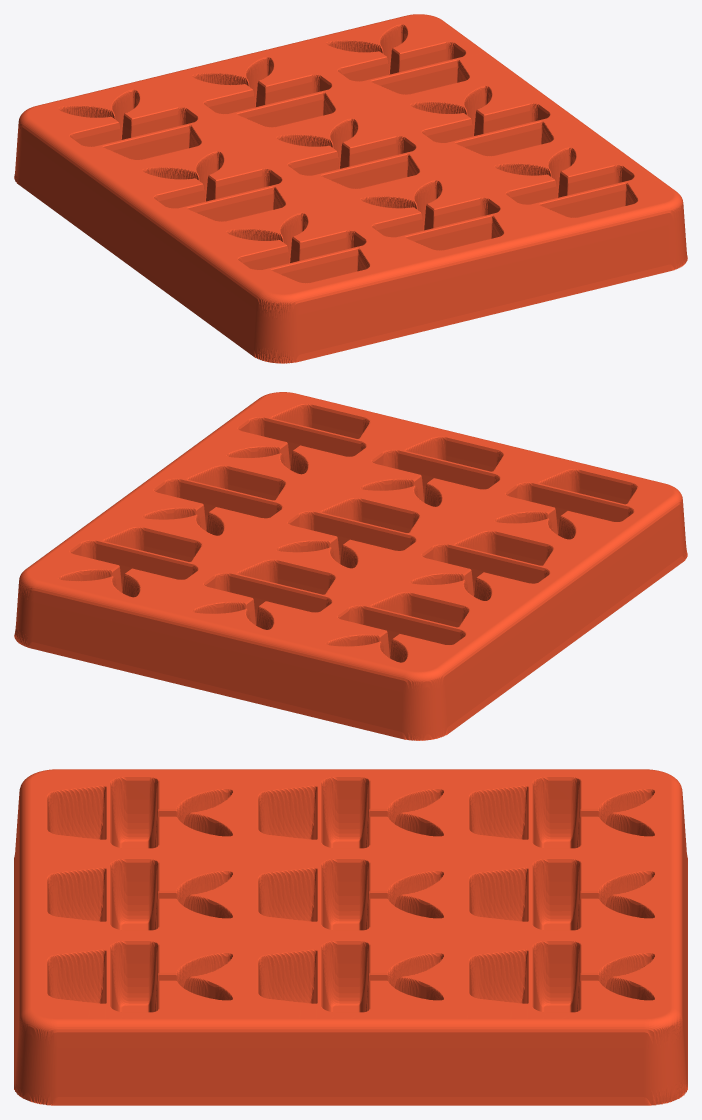
The model's file is mold.glb.
3 renders of one model, top to bottom at view 1: azimuth 30°, elevation 25°; view 2: azimuth 150°, elevation 25°; view 3: azimuth 270°, elevation 25°, orthographic. The views are drawn at different scales.
Visible parts, largest first — view 1: geometry_0; view 2: geometry_0; view 3: geometry_0.
Part boxes in pixels (x1,y1,x2,y2): geometry_0: (14, 14, 687, 363); geometry_0: (14, 392, 687, 740); geometry_0: (14, 769, 687, 1105).
Bounding box in the file's own units: 0.1295 × 0.0182 × 0.1402.
